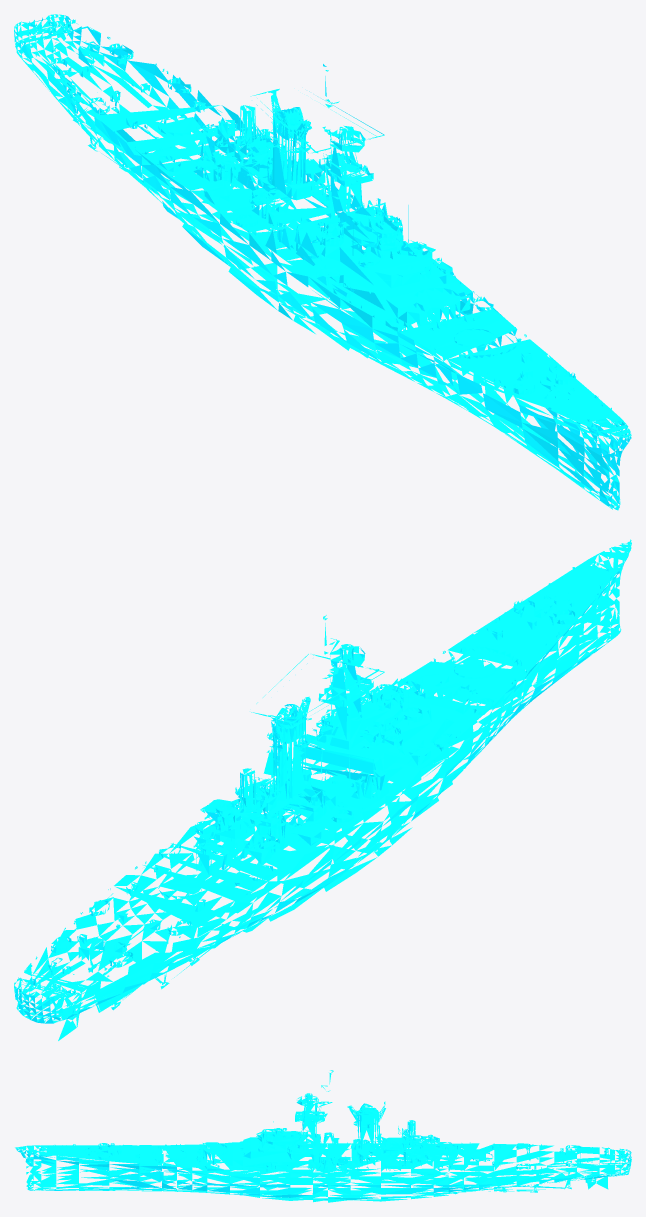
File: Congress.glb
The picture shows the model from 3 angles, top to bottom: view 1: azimuth 30°, elevation 25°; view 2: azimuth 150°, elevation 25°; view 3: azimuth 270°, elevation 25°; orthographic projection. The views are drawn at different scales.
Size of the model in its own units: 1.83 by 3.53 by 16.43.
